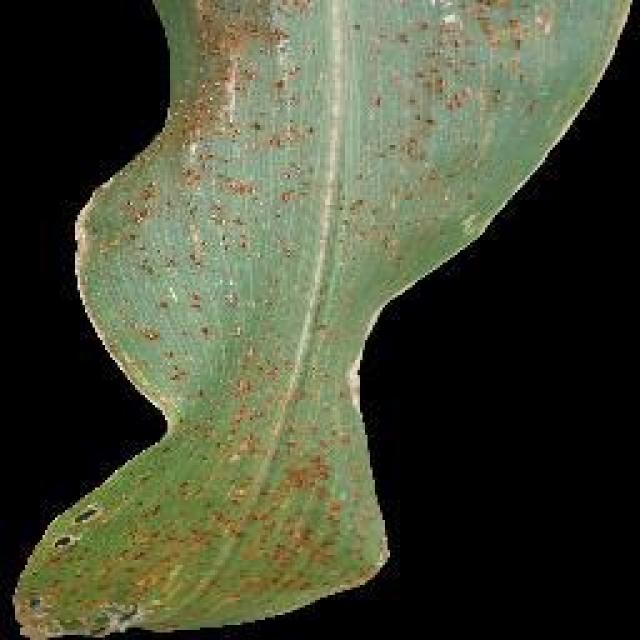Corn Common Rust: (109, 100, 458, 587)
